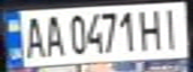0: (63, 10, 87, 55)
1: (115, 8, 139, 52)
4: (84, 10, 103, 54)
7: (100, 9, 121, 53)
A: (18, 12, 48, 60), (39, 11, 66, 58)
H: (136, 6, 166, 52)
I: (157, 4, 184, 50)
